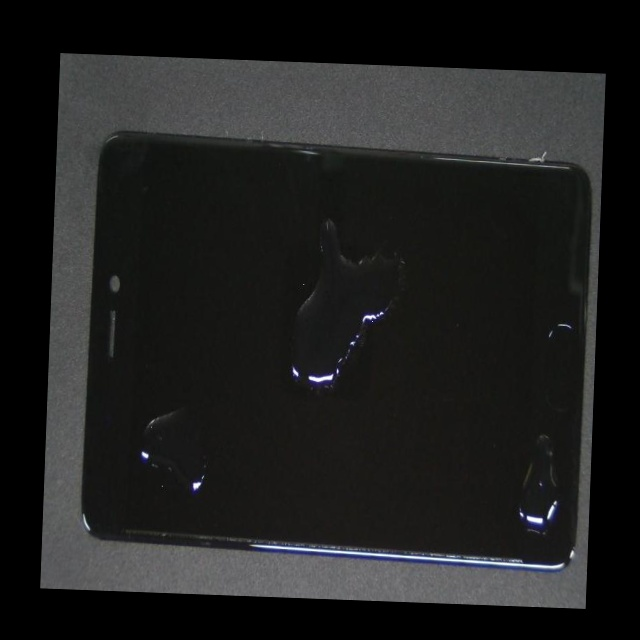oil: (194, 169, 478, 332), (88, 234, 200, 594)
